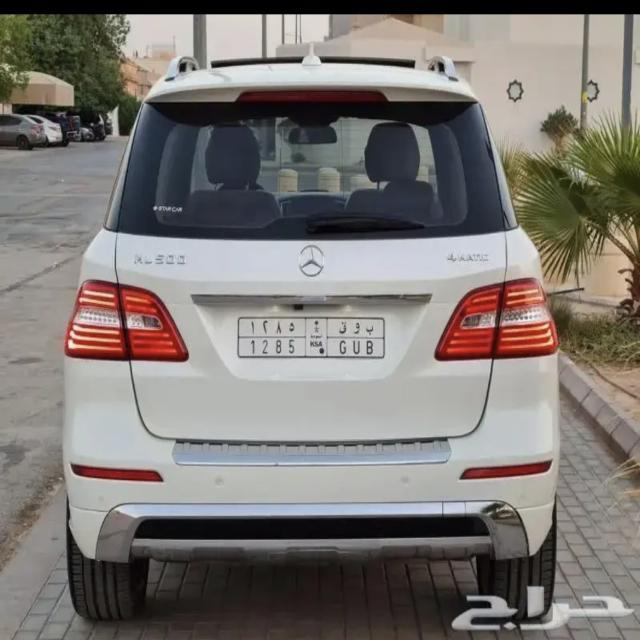license_plate: (240, 313, 386, 361)
